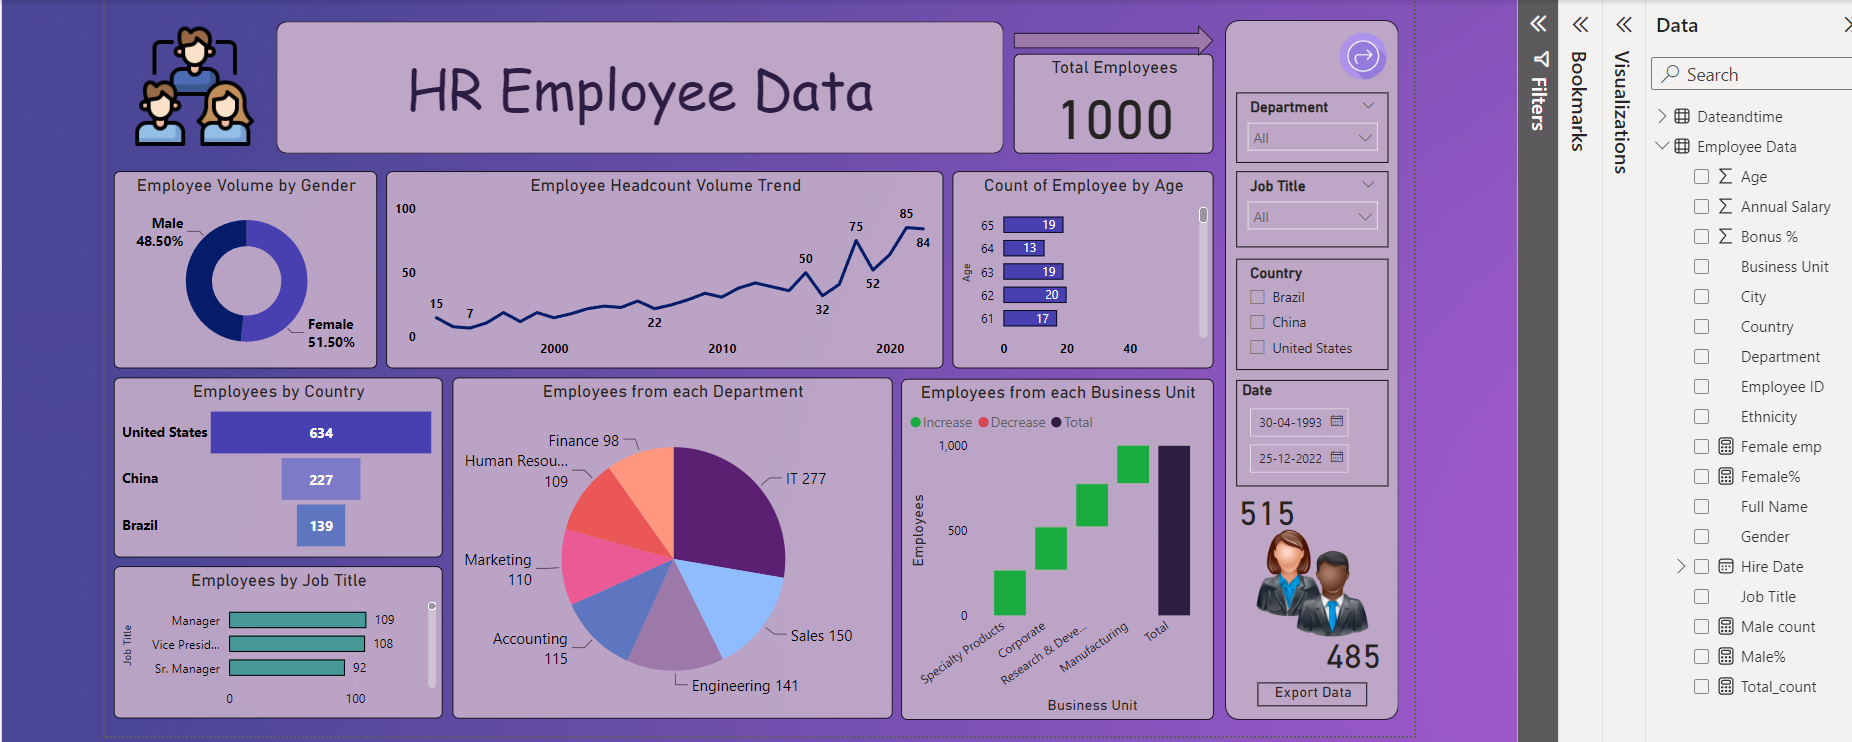

The dashboard page shown, as its layout file describes it:
{"tool":"powerbi","page":{"name":"HR Analysis","canvas":[1280,720],"ordinal":0},"visuals":[{"type":"lineChart","title":"Employee Headcount Volume Trend","fields":{"Category":["Employee Data.Hire Date.Variation.Date Hierarchy.Year"],"Y":["CountNonNull(Employee Data.Employee ID)"]},"box":[275,167.5,545.2,193.1],"z":0},{"type":"donutChart","title":"Employee Volume by Gender","fields":{"Category":["Employee Data.Gender"],"Y":["CountNonNull(Employee Data.Employee ID)"]},"box":[8.6,167.5,257.9,193.1],"z":1000},{"type":"clusteredBarChart","title":"Count of Employee by Age","fields":{"Category":["Employee Data.Age"],"Y":["CountNonNull(Employee Data.Employee ID)"]},"box":[828.8,167.5,255.5,193.1],"z":2000},{"type":"funnel","title":"Employees by Country","fields":{"Category":["Employee Data.Country"],"Y":["CountNonNull(Employee Data.Employee ID)"]},"box":[8.6,369.2,321.5,176],"z":3000},{"type":"shape","title":"HR Employee Data","box":[167.5,20.8,711.4,129.6],"z":4000},{"type":"card","title":"Total Employees","fields":{"Values":["CountNonNull(Employee Data.Employee ID)"]},"box":[888.7,52.6,195.6,97.8],"z":5000},{"type":"pieChart","title":"Employees from each Department","fields":{"Category":["Employee Data.Department"],"Y":["CountNonNull(Employee Data.Employee ID)"]},"box":[339.8,369.2,430.3,333.7],"z":6000},{"type":"waterfallChart","title":"Employees from each Business Unit","fields":{"Category":["Employee Data.Business Unit"],"Y":["CountNonNull(Employee Data.Employee ID)"]},"box":[778.7,370.4,305.6,333.7],"z":7000},{"type":"image","box":[8.6,19.6,158.9,129.6],"z":8000},{"type":"shape","box":[1095.3,19.6,169.9,684.6],"z":9000},{"type":"barChart","title":"Employees by Job Title","fields":{"Category":["Employee Data.Job Title"],"Y":["CountNonNull(Employee Data.Employee ID)"]},"box":[8.6,553.8,321.5,149.1],"z":10000},{"type":"image","box":[1121,512.2,119.8,116.1],"z":11000},{"type":"card","fields":{"Values":["Employee Data.Female emp"]},"box":[1085.5,475.5,101.5,48.9],"z":12000},{"type":"card","fields":{"Values":["Employee Data.Male count"]},"box":[1171.1,611.2,100.2,56.2],"z":13000},{"type":"slicer","fields":{"Values":["Employee Data.Department"]},"box":[1106.3,90.5,149.1,68.5],"z":14000},{"type":"slicer","fields":{"Values":["Employee Data.Country"]},"box":[1106.3,253,149.1,108.8],"z":15000},{"type":"slicer","fields":{"Values":["Employee Data.Job Title"]},"box":[1106.3,167.5,149.1,74.6],"z":16000},{"type":"slicer","title":"Date","fields":{"Values":["Employee Data.Hire Date"]},"box":[1106.3,371.6,149.1,103.9],"z":17000},{"type":"image","box":[1202.9,20.8,55,67.2],"z":17001},{"type":"shape","box":[888.7,24.4,195.6,30.6],"z":17002},{"type":"tableEx","title":"Export Data","fields":{"Values":["Employee Data.Full Name","Employee Data.Gender","Employee Data.Job Title","Employee Data.Annual Salary","Employee Data.Age"]},"box":[1127.1,667.4,107.6,23.2],"z":17003}]}

Visuals, with their boxes in screenshot pixels (x1, y1, x2, y2):
"Employee Headcount Volume Trend" lineChart: Rect(381, 170, 936, 367)
"Employee Volume by Gender" donutChart: Rect(110, 170, 372, 367)
"Count of Employee by Age" clusteredBarChart: Rect(944, 170, 1204, 367)
"Employees by Country" funnel: Rect(110, 376, 437, 555)
"HR Employee Data" shape: Rect(272, 21, 995, 153)
"Total Employees" card: Rect(1005, 54, 1204, 153)
"Employees from each Department" pieChart: Rect(447, 376, 885, 715)
"Employees from each Business Unit" waterfallChart: Rect(893, 377, 1204, 716)
image: Rect(110, 20, 272, 152)
shape: Rect(1216, 20, 1388, 716)
"Employees by Job Title" barChart: Rect(110, 563, 437, 715)
image: Rect(1242, 521, 1364, 639)
card - Employee Data.Female emp: Rect(1206, 484, 1309, 533)
card - Employee Data.Male count: Rect(1293, 622, 1395, 679)
slicer - Employee Data.Department: Rect(1227, 92, 1378, 162)
slicer - Employee Data.Country: Rect(1227, 257, 1378, 368)
slicer - Employee Data.Job Title: Rect(1227, 170, 1378, 246)
"Date" slicer: Rect(1227, 378, 1378, 484)
image: Rect(1325, 21, 1381, 90)
shape: Rect(1005, 25, 1204, 56)
"Export Data" tableEx: Rect(1248, 679, 1357, 703)
